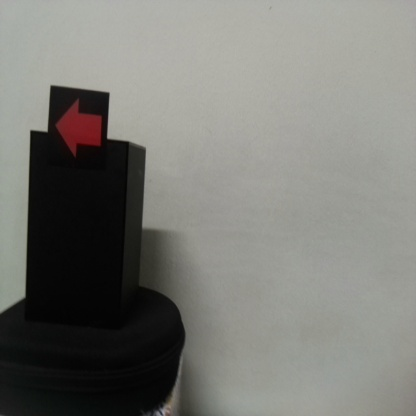id_4: (50, 87, 107, 170)
